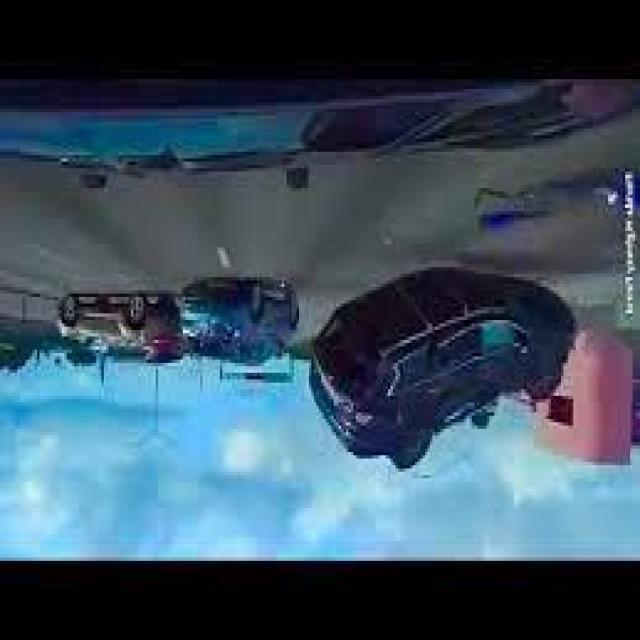moderate: (51, 272, 300, 375)
severe: (299, 274, 578, 482)
